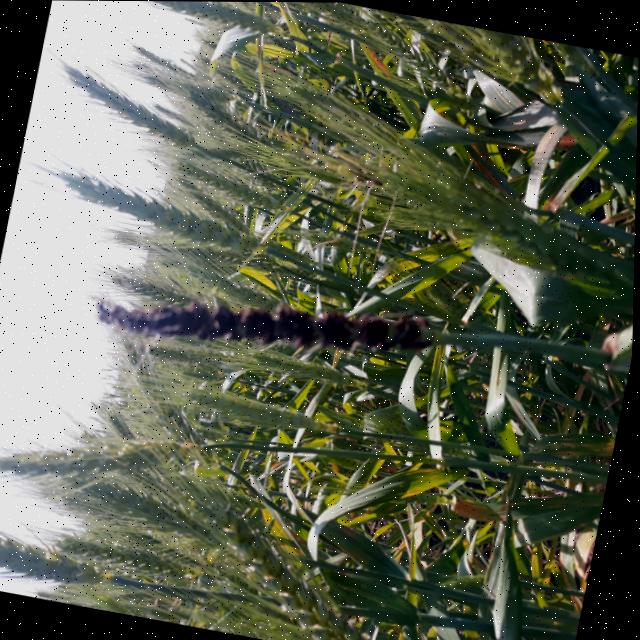loose_charred: (76, 237, 454, 419)
yellow_rust: (501, 112, 578, 185), (446, 484, 531, 541), (444, 128, 516, 194), (550, 527, 599, 614), (346, 35, 407, 91)
